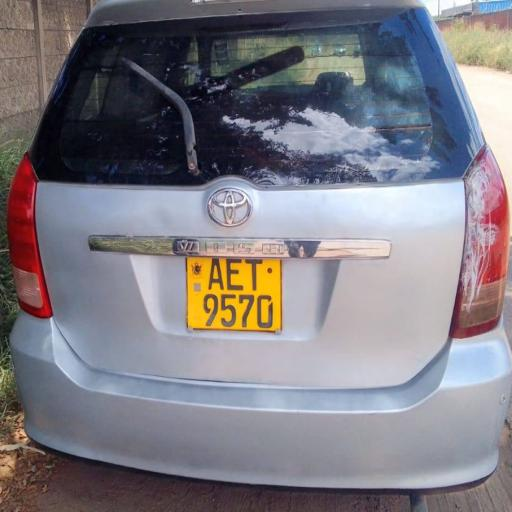number-plates: (186, 253, 284, 329)
